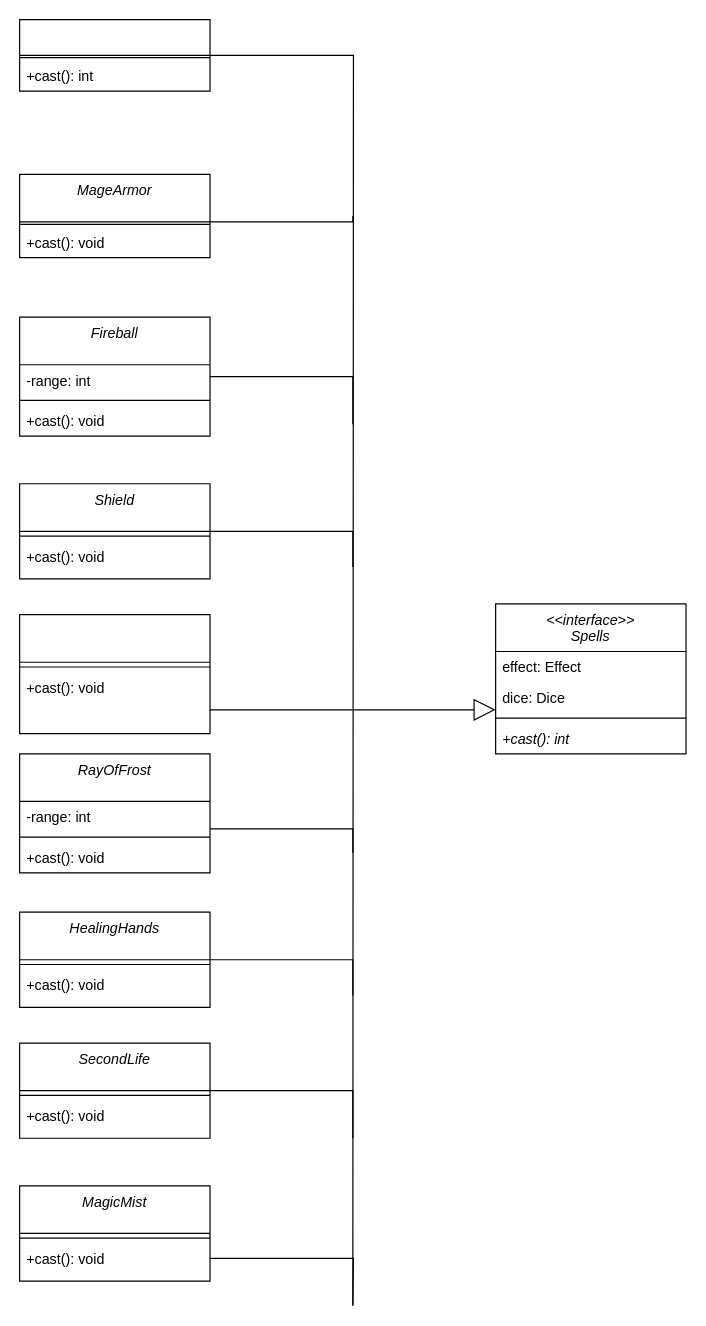
Some shapes in this 706 by 1326 pixel diagram are drawn without their labels. Here are the shapes that lost their labels. From the top down, the box of each, then its label:
(18, 18, 210, 91): Sleep
(18, 613, 210, 734): BurningHands
